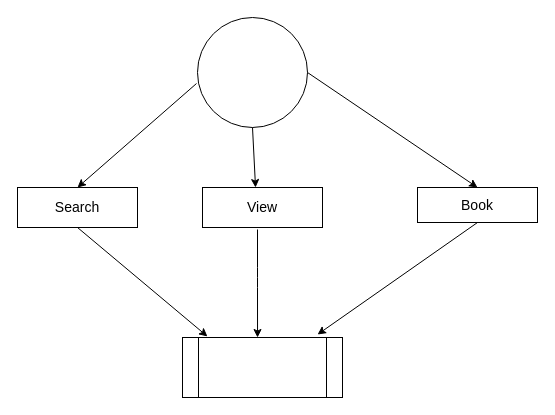
Image size: 555x415. Some labels were removed from this diagram. The centre of each missing label's shape, as x and y in pixels:
Transportation: pixel 252 72
Transportation Master: pixel 262 367
